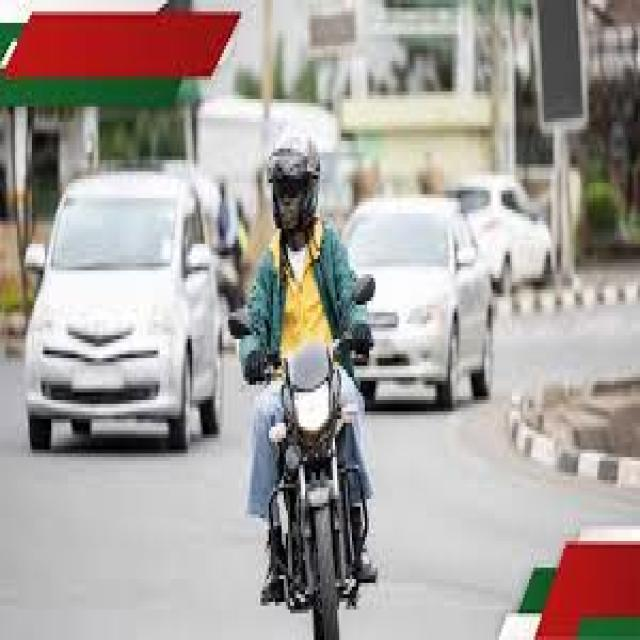bodaboda: (205, 214, 434, 640)
